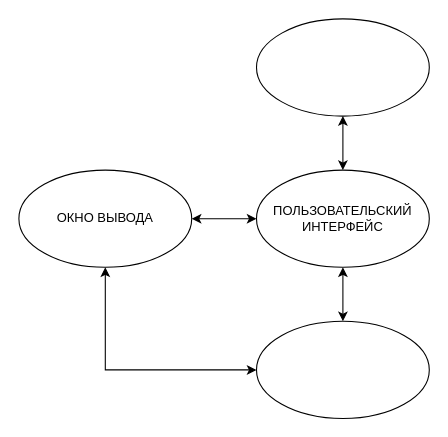
The diagram is 448 pixels wide and 437 high, and some of its shapes have lost their labels. Each missing label, with the box of its shape:
ЛОГИКА: (255, 320, 429, 418)
ОКНО ПРИЛОЖЕНИЯ: (255, 18, 429, 116)
